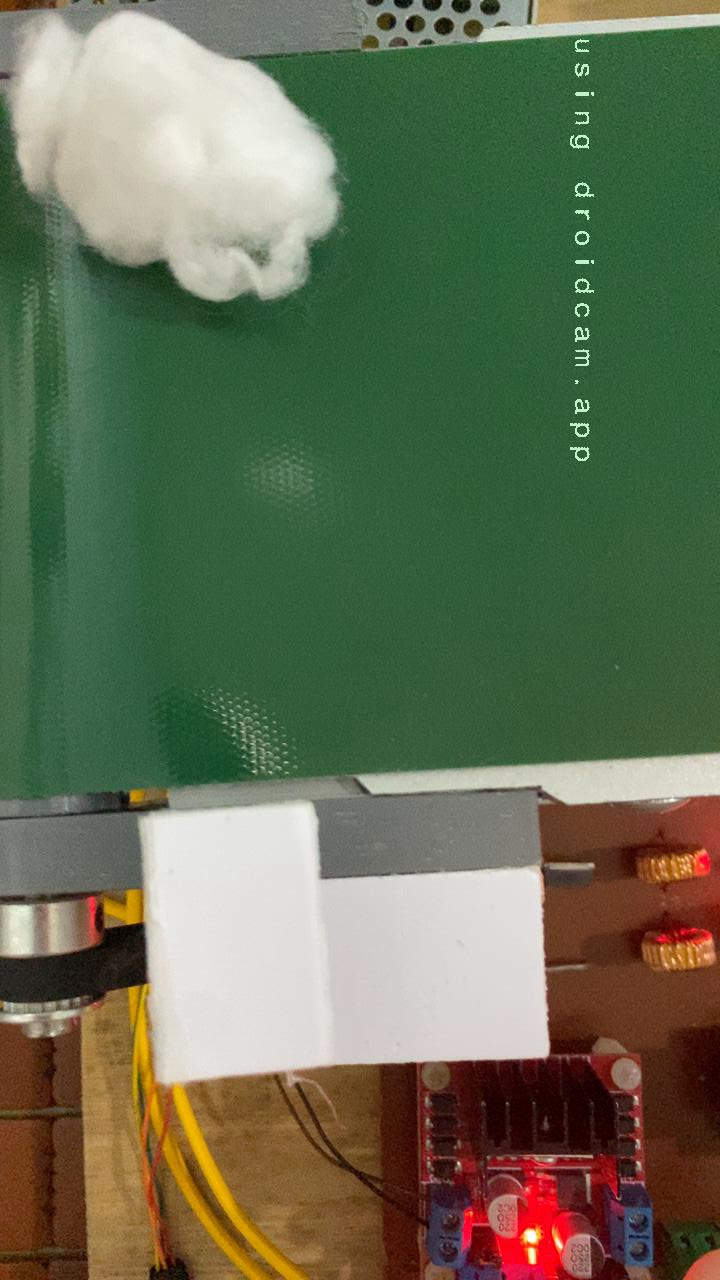cotton: (0, 42, 428, 308)
